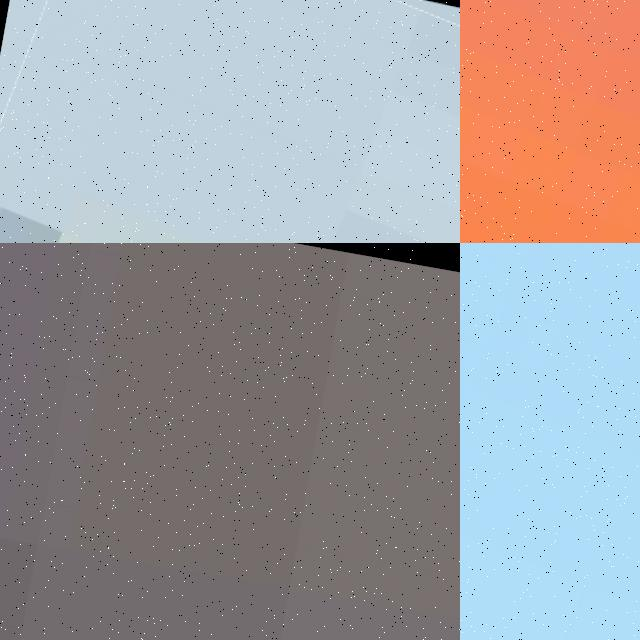drone: (0, 0, 460, 243), (460, 243, 640, 640), (460, 0, 640, 243)
